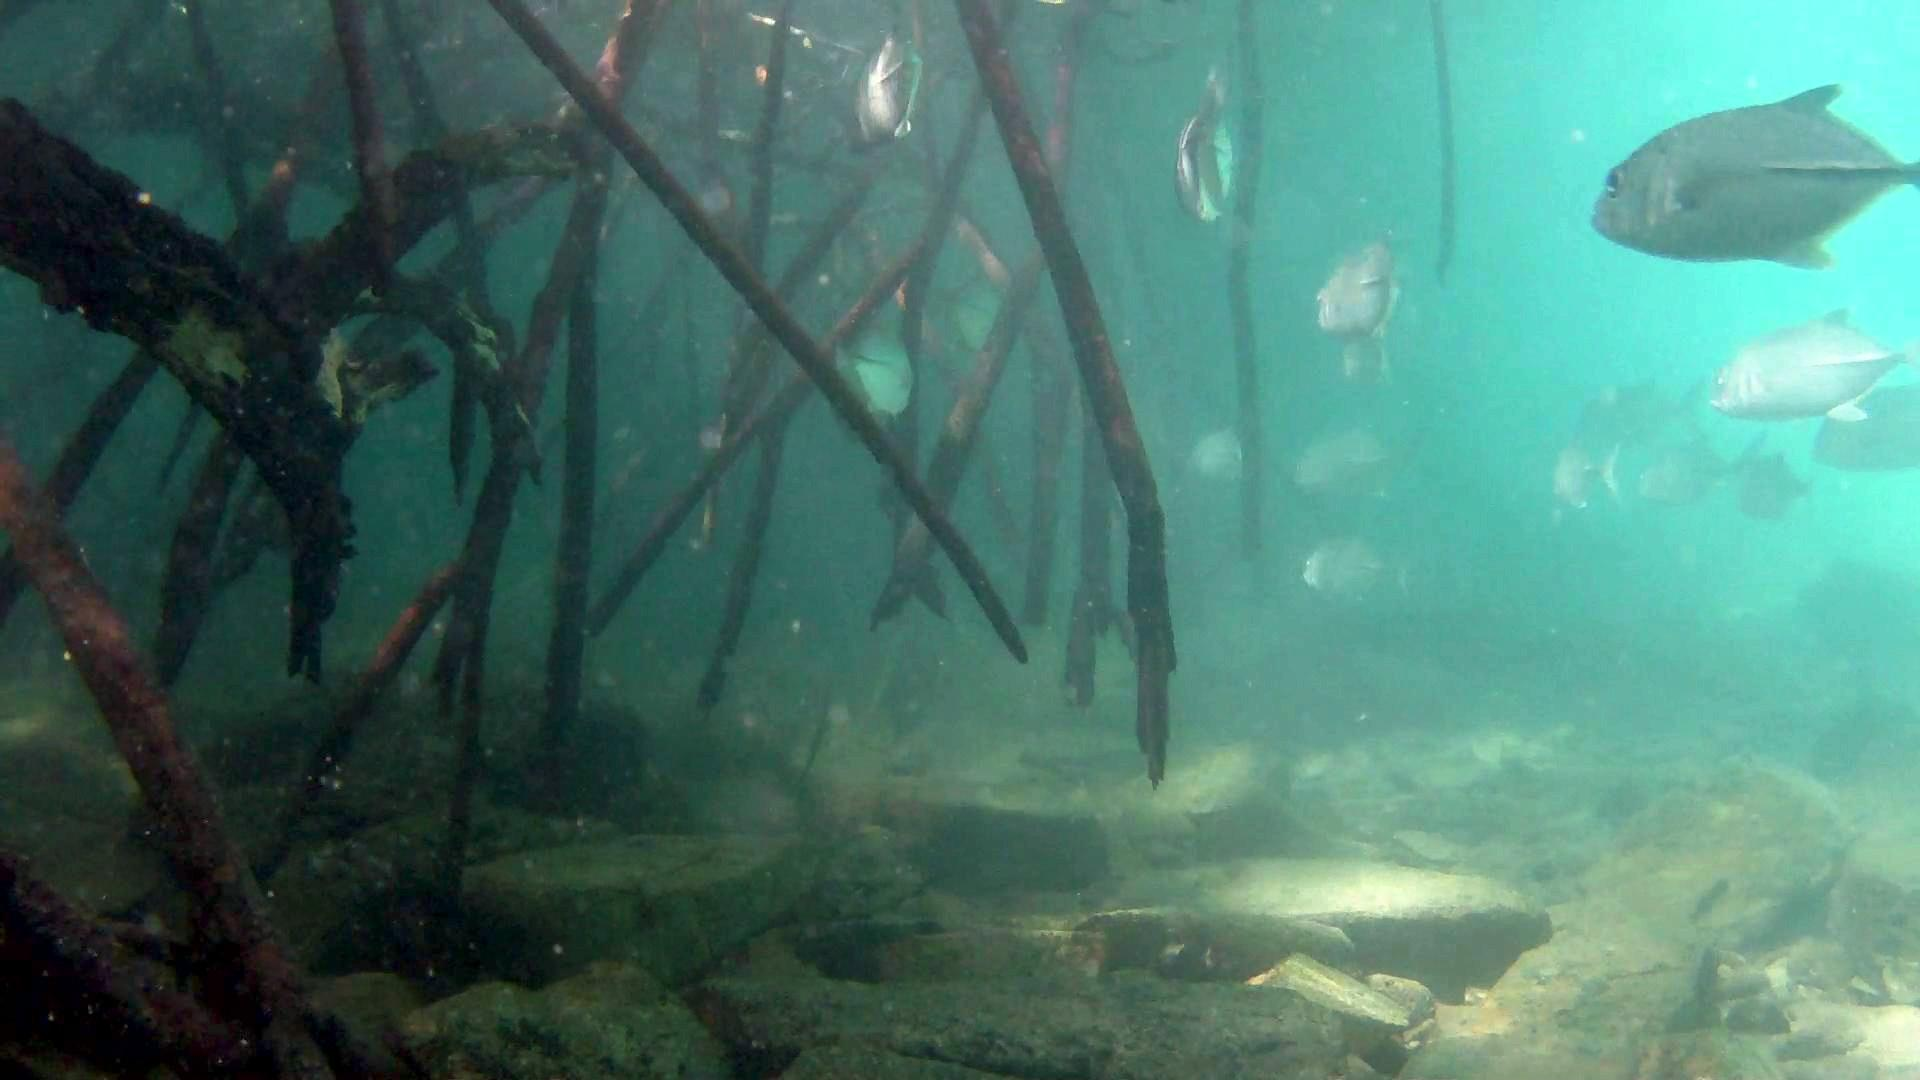caranx: (1578, 78, 1920, 277), (1695, 301, 1920, 435)
